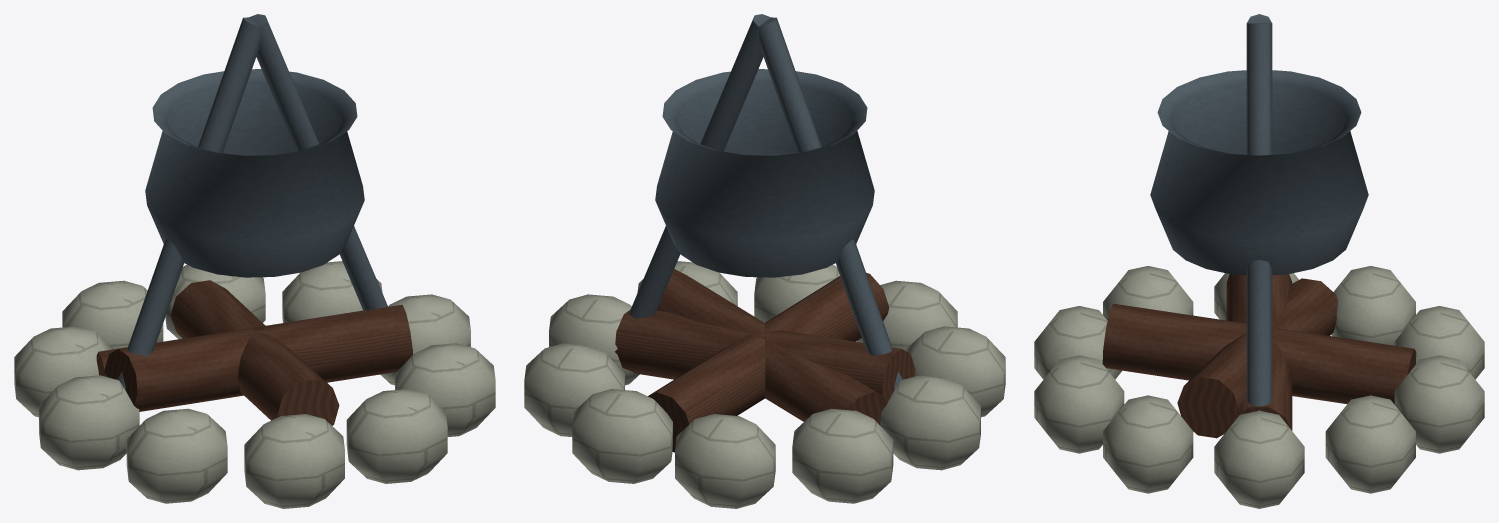
File: campfire.glb
The picture shows the model from 3 angles, left to right: view 1: azimuth 30°, elevation 25°; view 2: azimuth 150°, elevation 25°; view 3: azimuth 270°, elevation 25°; orthographic projection.
Parts seen in each view (by area): view 1: campfire; view 2: campfire; view 3: campfire.
Boxes of the visible parts, x1,y1,x2,y2 form: campfire: (14, 14, 495, 508); campfire: (524, 14, 1005, 508); campfire: (1034, 14, 1484, 508).
Size of the model in its own units: 1.34 by 1.22 by 1.24.
Materials: 3 (3 with a texture image).
